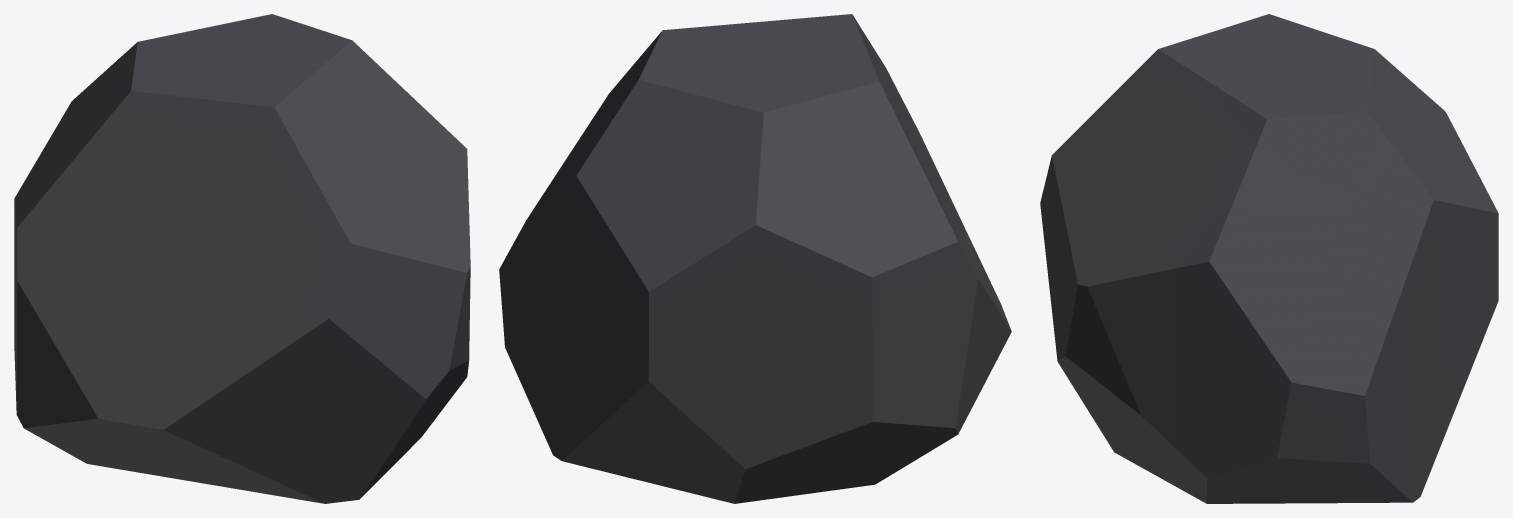
Rendered from rock6.obj.
3 renders of one model, left to right at view 1: azimuth 30°, elevation 25°; view 2: azimuth 150°, elevation 25°; view 3: azimuth 270°, elevation 25°, orthographic. The views are drawn at different scales.
Size of the model in its own units: 2.3 by 1.9 by 2.11.
Materials: 1 (1 with a texture image).
